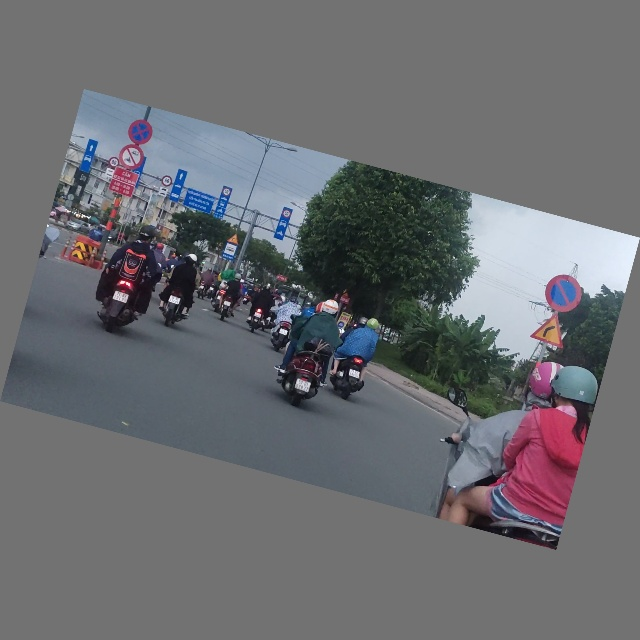I.434a: (221, 242, 239, 263)
P.111: (118, 143, 146, 172)
P.127*50: (280, 209, 292, 220), (221, 187, 232, 198)
P.127*60: (160, 174, 174, 189)
P.127*80: (107, 157, 120, 169)
P.130: (125, 117, 155, 148)
P.131a: (540, 270, 587, 316)
S.505a*Xe tai va cong: (157, 186, 169, 198)
W.201b: (528, 307, 572, 350), (227, 232, 240, 246)
